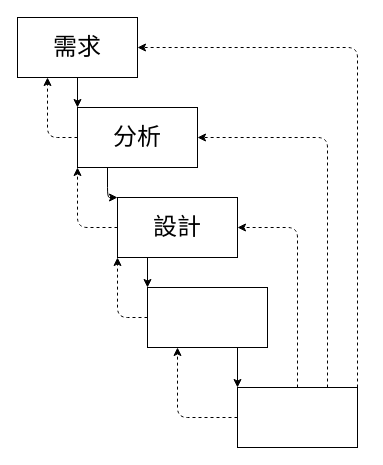
Image size: 383x465. Some labels were removed from this diagram. The shapes that lost their labels are listed below. From the top down, each one's centre as x and y in pixels, then its label:
At pixel 207 317: "製作".
At pixel 297 417: "維護".
